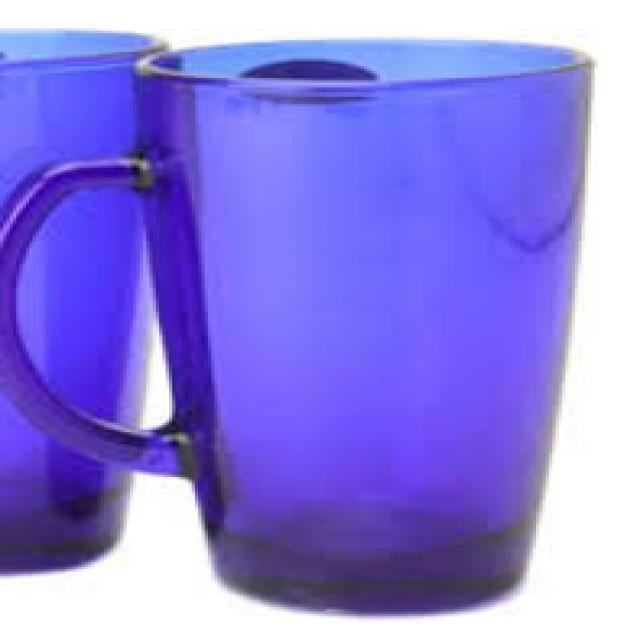taza: (0, 38, 597, 609)
